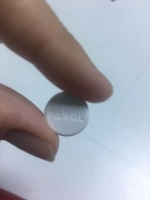Parol: (43, 88, 92, 137)
